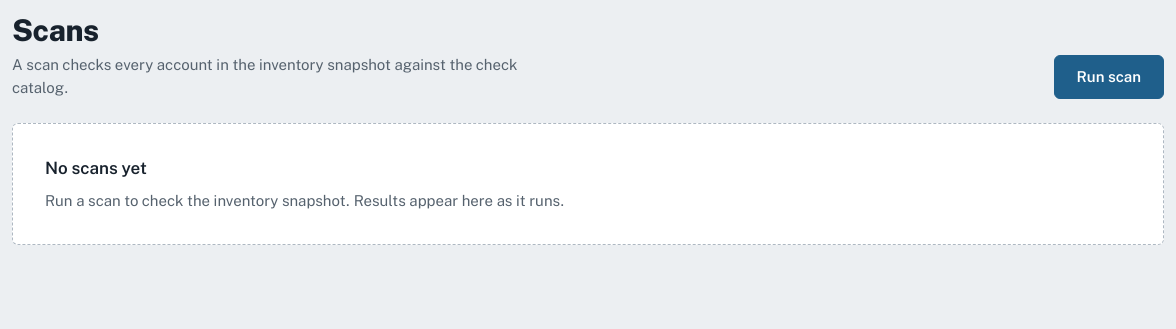
ScansPage › shows why a scan couldn't start
Expected: the text "No scans yet" is shown, [45,156,147,182]
Click the button "Run scan".
click(1109, 77)  # box [1054,54,1164,99]
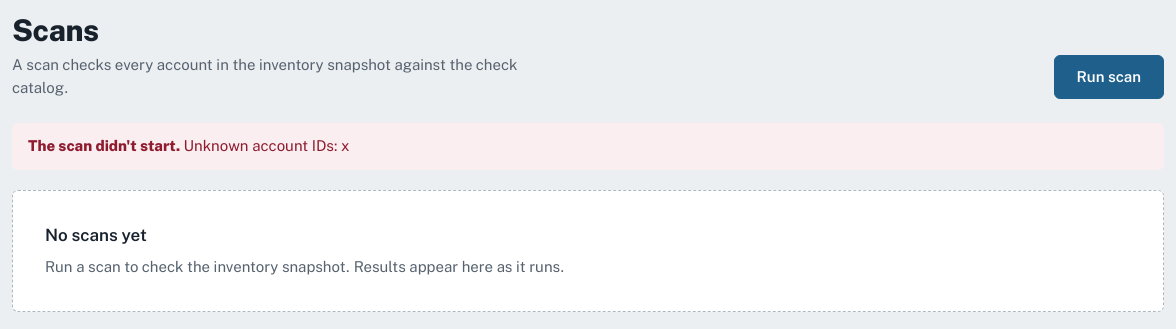
Result: the text "Unknown account IDs: x" is shown at [184,137,349,154]
